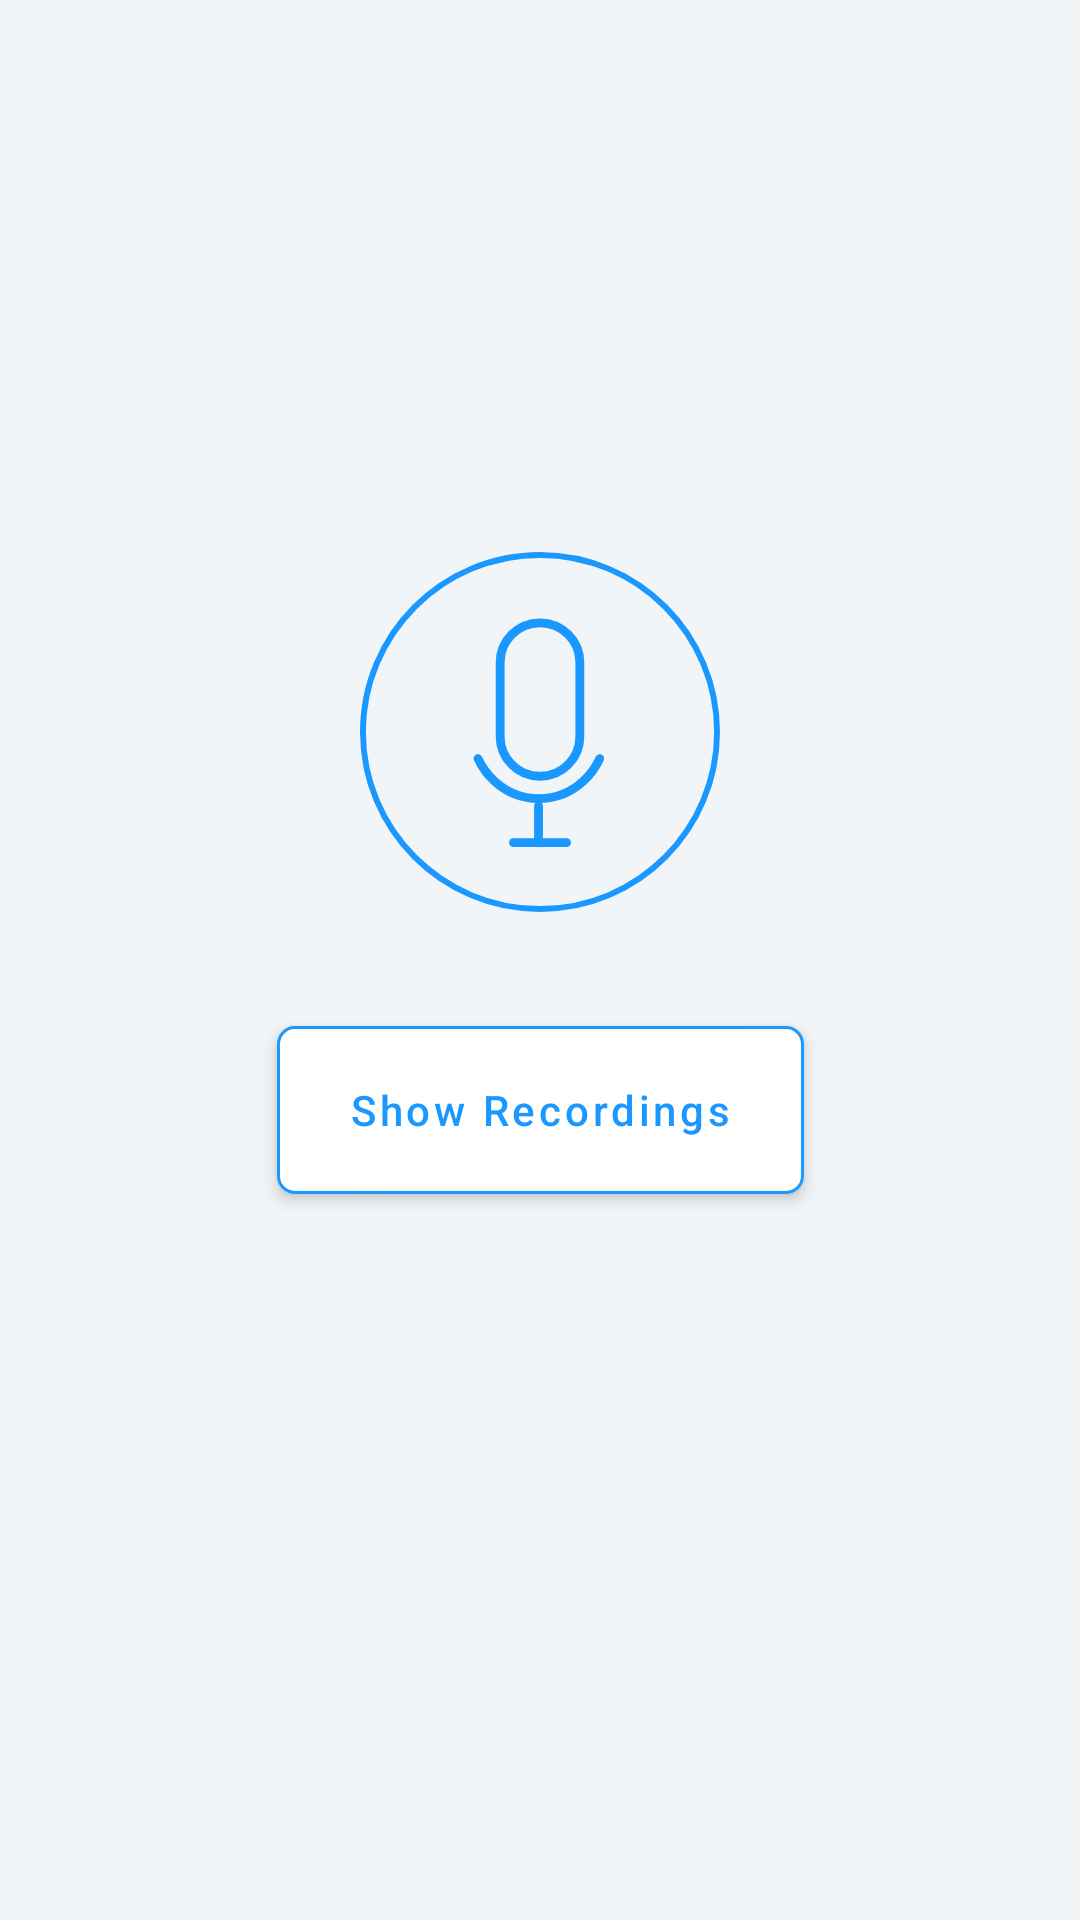

Icons on this 1080 x 1920 Android screen, each with the point to tap as [x,y]:
mic: [540,732]
